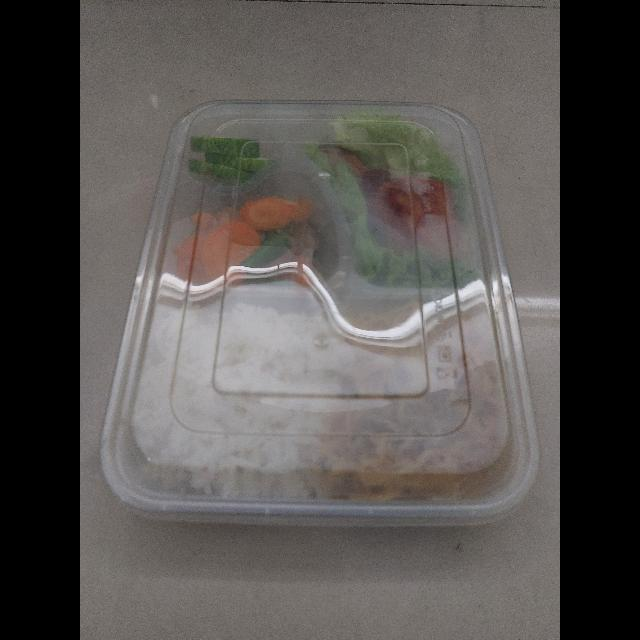bento: (93, 102, 535, 503)
